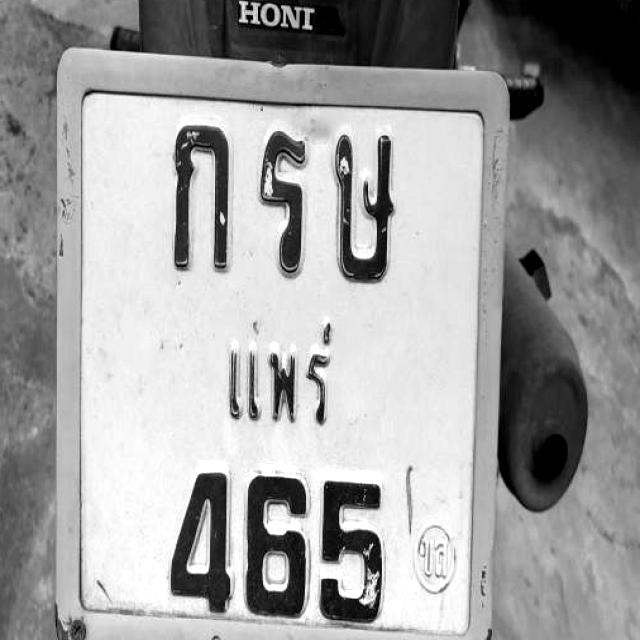letters: (167, 90, 237, 292), (324, 128, 405, 293), (248, 122, 315, 288), (159, 459, 231, 602), (245, 469, 302, 619), (329, 472, 382, 632)
license-plate: (63, 68, 505, 640)
province: (221, 332, 347, 434)
